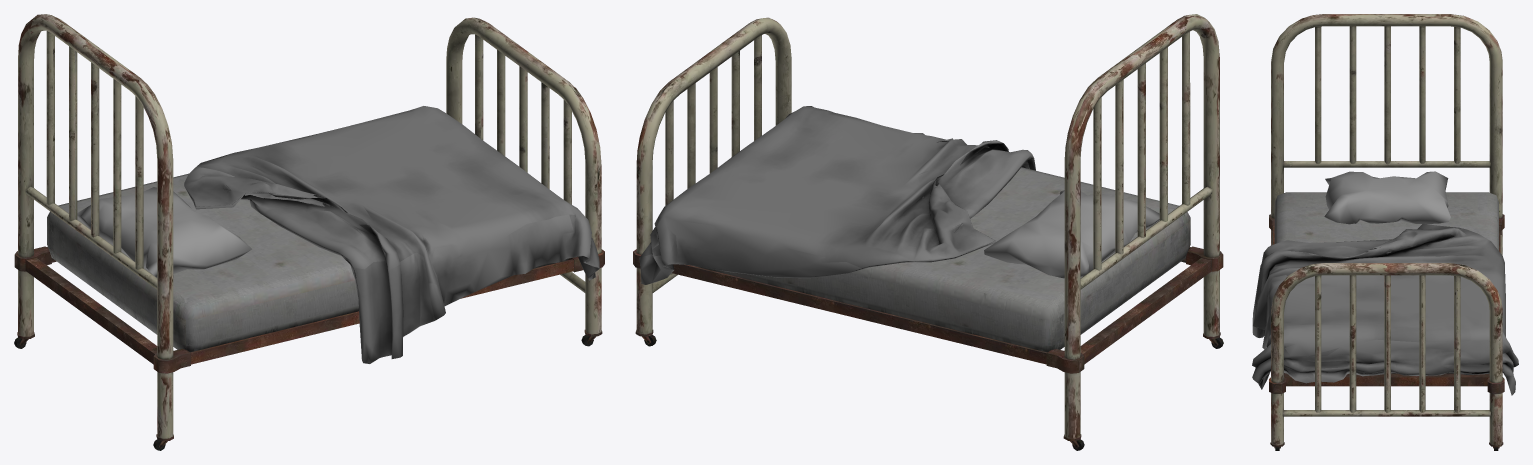
The model's file is bed_iron.glb.
3 views of the same model, side by side, from view 1: azimuth 30°, elevation 25°; view 2: azimuth 150°, elevation 25°; view 3: azimuth 270°, elevation 25° (orthographic). The views are drawn at different scales.
Visible parts, largest first — view 1: low_Pillow_1_bed_0, low_Pillow_1_lagen_0, low_Pillow_1_pillow_0; view 2: low_Pillow_1_bed_0, low_Pillow_1_lagen_0, low_Pillow_1_pillow_0; view 3: low_Pillow_1_bed_0, low_Pillow_1_lagen_0, low_Pillow_1_pillow_0.
Boxes of the visible parts, x1,y1,x2,y2 form: low_Pillow_1_bed_0: (14,14,604,450); low_Pillow_1_lagen_0: (184,106,599,363); low_Pillow_1_pillow_0: (77,187,251,277); low_Pillow_1_bed_0: (633,14,1223,450); low_Pillow_1_lagen_0: (639,106,1035,284); low_Pillow_1_pillow_0: (984,190,1159,278); low_Pillow_1_bed_0: (1269,14,1504,450); low_Pillow_1_lagen_0: (1252,223,1518,395); low_Pillow_1_pillow_0: (1324,171,1450,224).
Size of the model in its own units: 2 by 1.49 by 1.31.
Materials: 3 (2 with a texture image).
